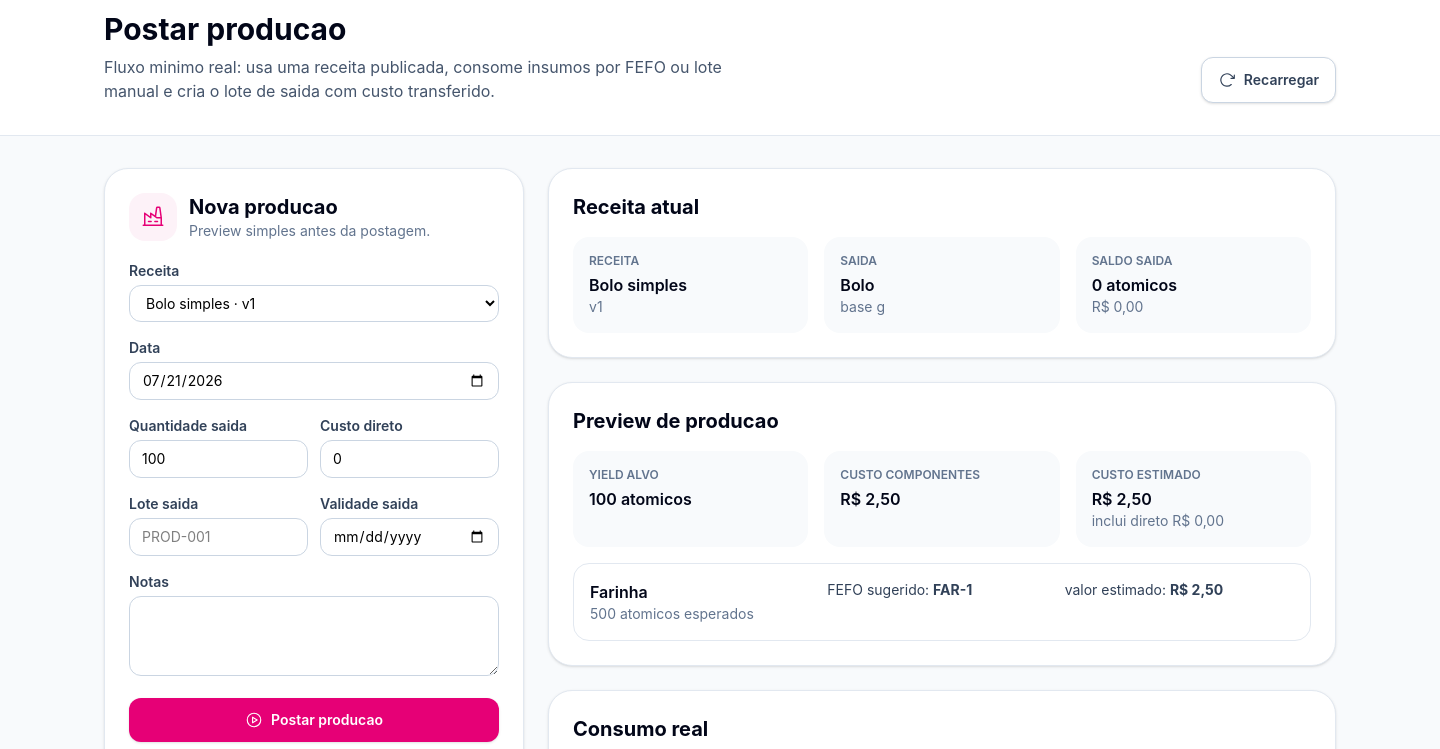
Test case: ProductionPage › posts production through the V2 gateway
Check: the text "Bolo simples" is shown, box [589,275,687,295]
Check: the heading "Preview de producao" is shown, box [573,409,779,433]
Replace the text in the field labelled "Custo direto" with "0,50": (410,459) [320,440,499,478]
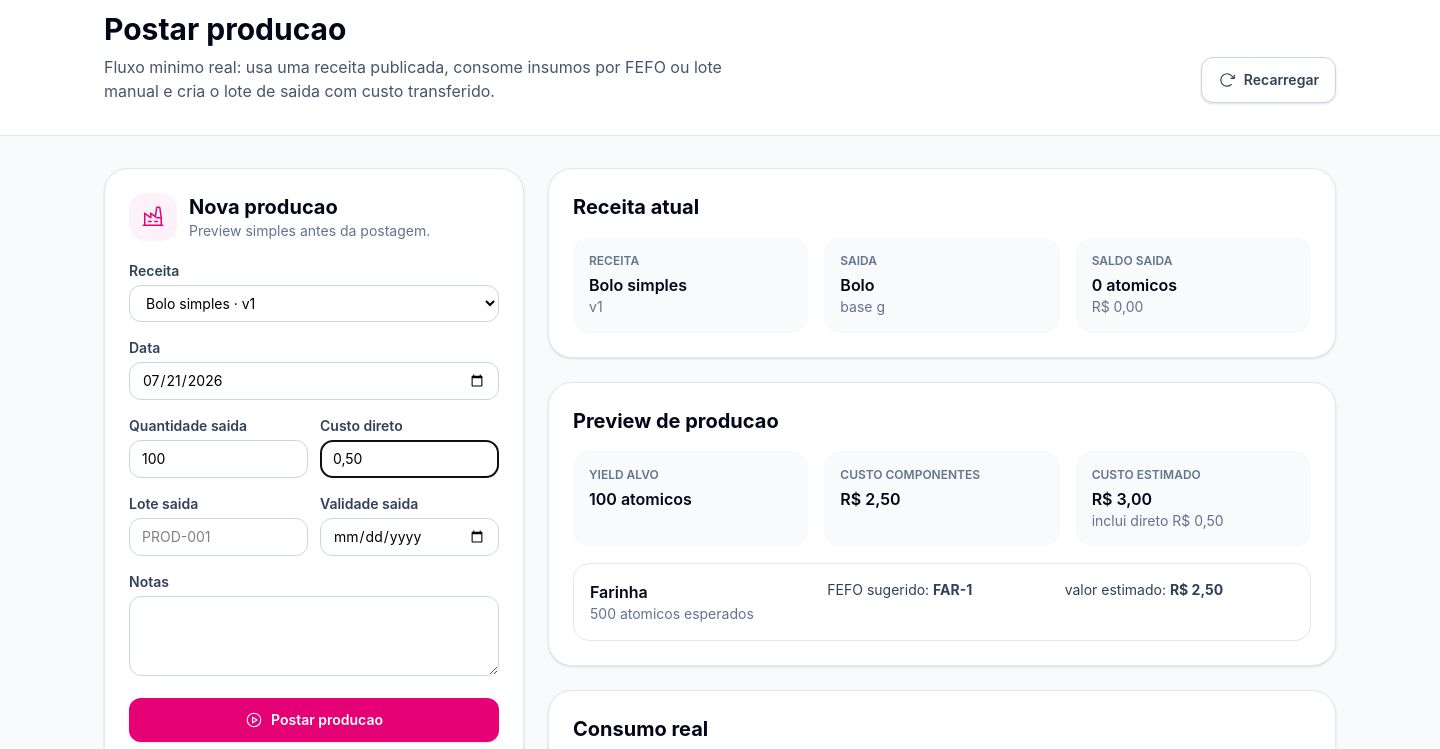
In the field labelled "Lote saida": (218,537) [129,518,308,556], type "BOLO-1"
(page scrolled)
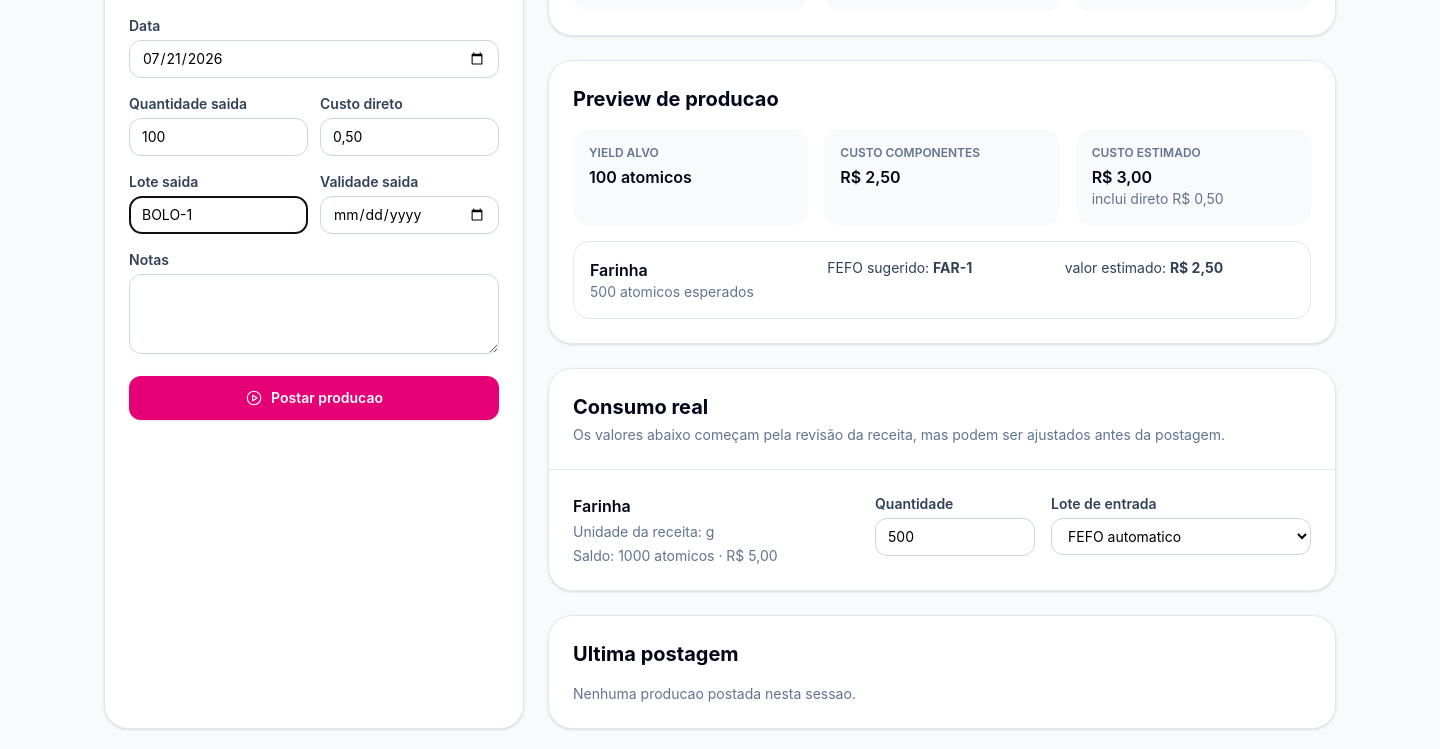
Select "FAR-1 · 1000 atomicos · vence 2026-12-31" in the dropdown labelled "Lote de entrada": (1181,536) [1051,518,1311,555]
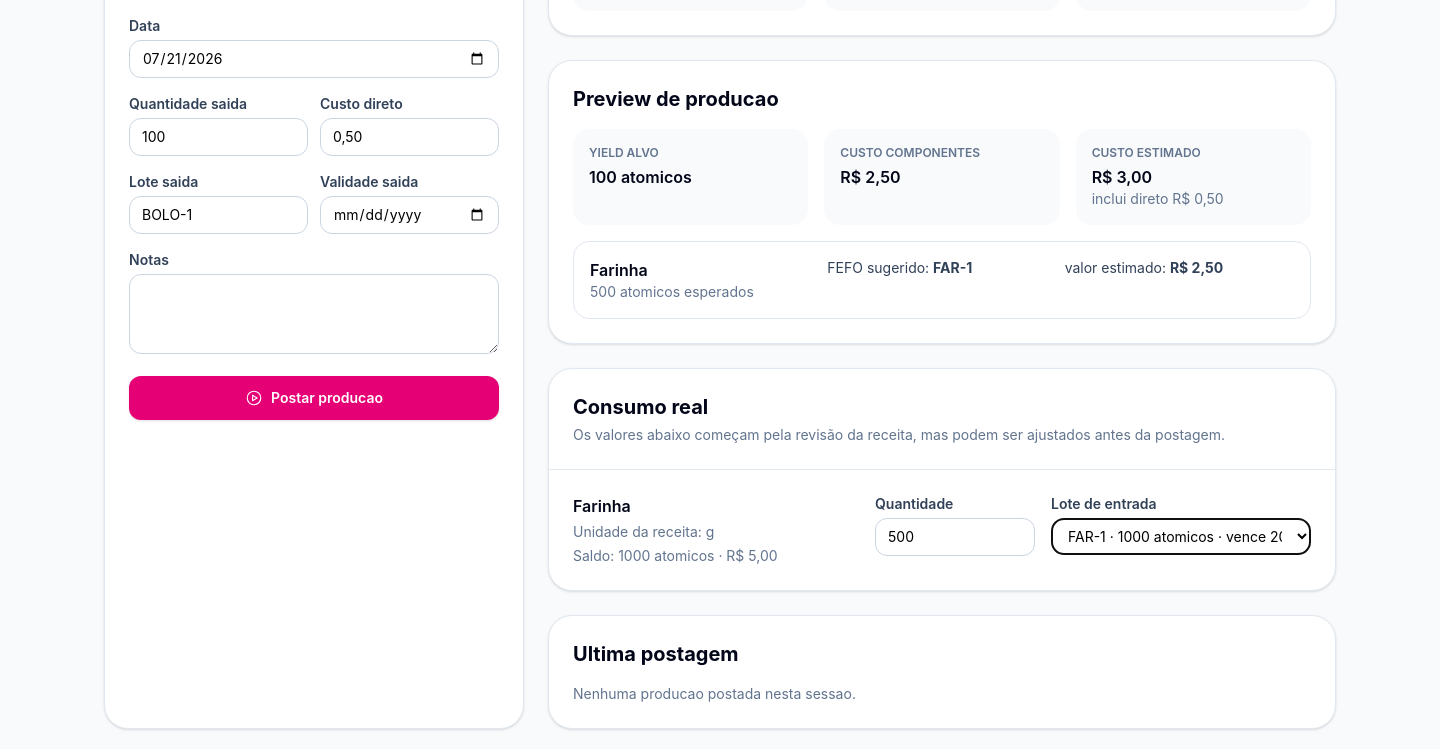
Click the button "Postar producao": (314,398) [129,376,499,420]
(page scrolled)
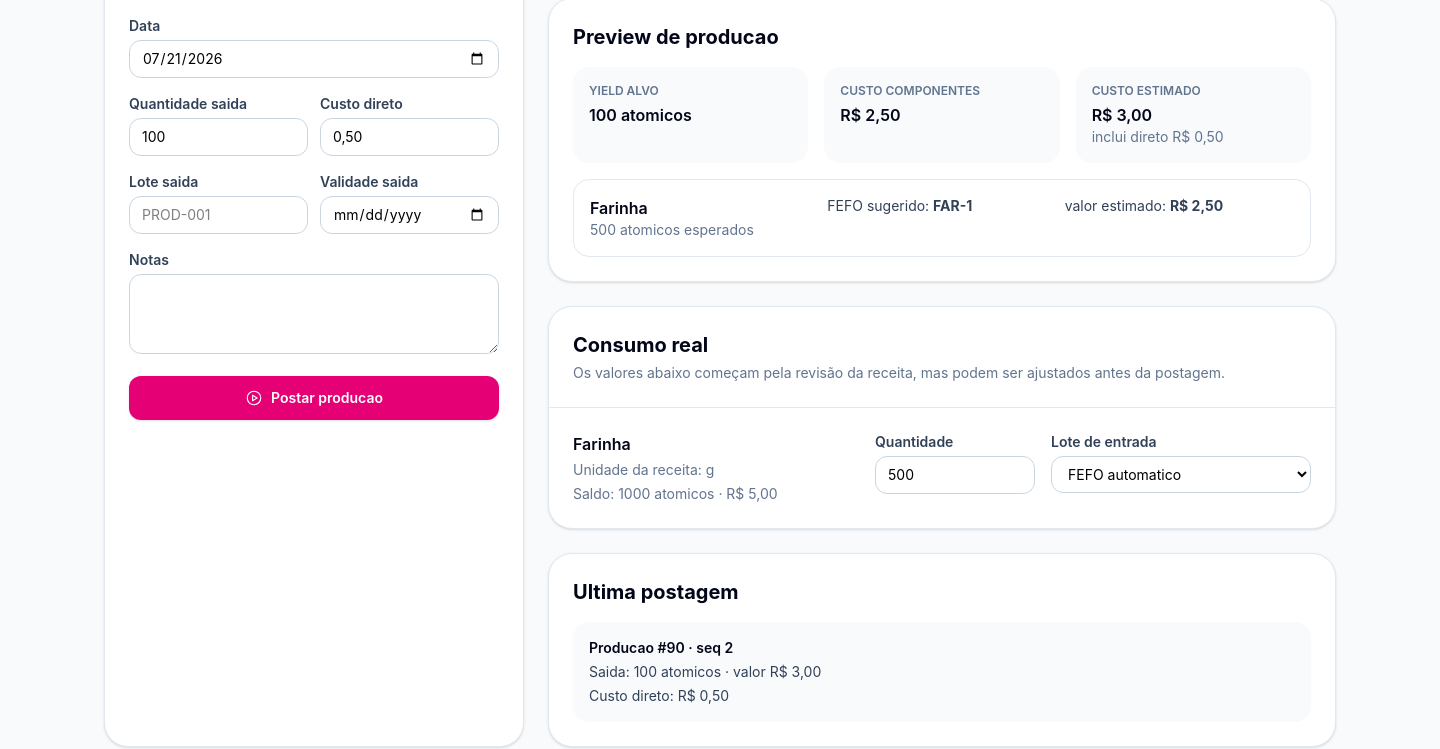
Check: the text "Producao #90 · seq 2" is shown, box [589,639,733,656]
